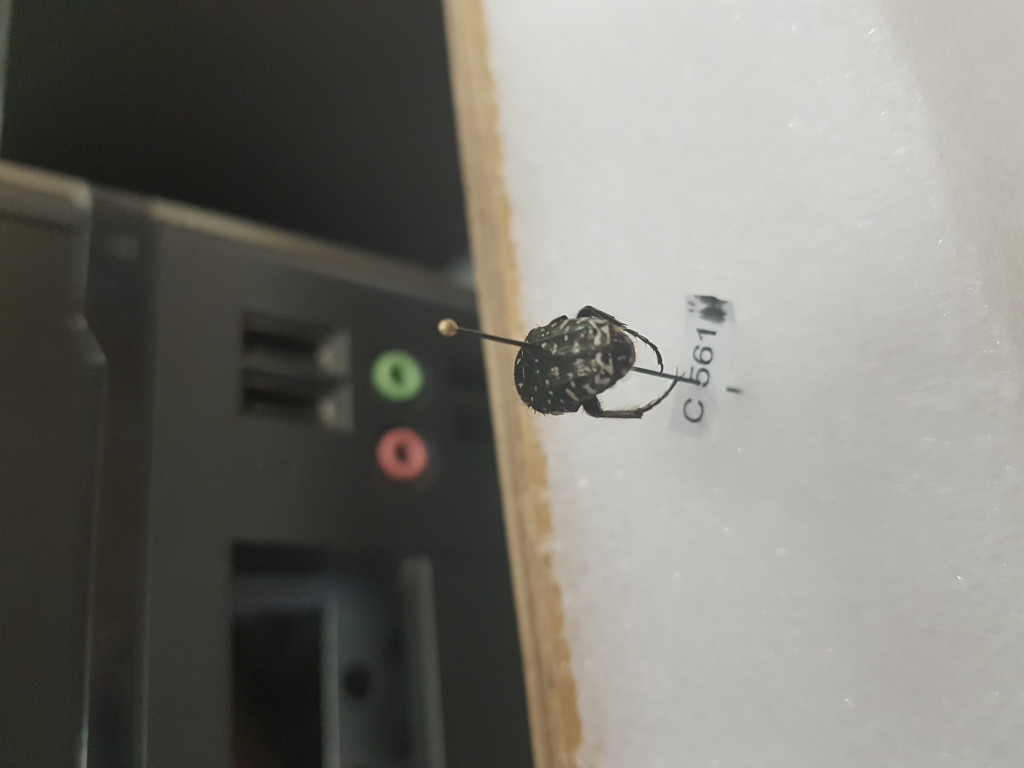Oxythyrea_funesta: (506, 305, 683, 420)
